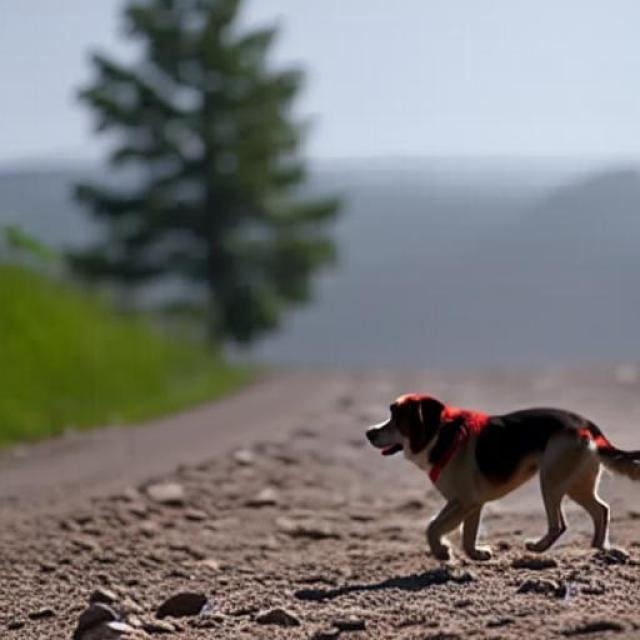Dog: (366, 392, 640, 562)
